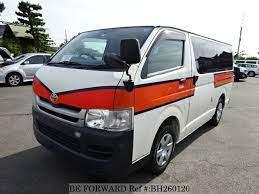Van: (32, 23, 236, 169)
